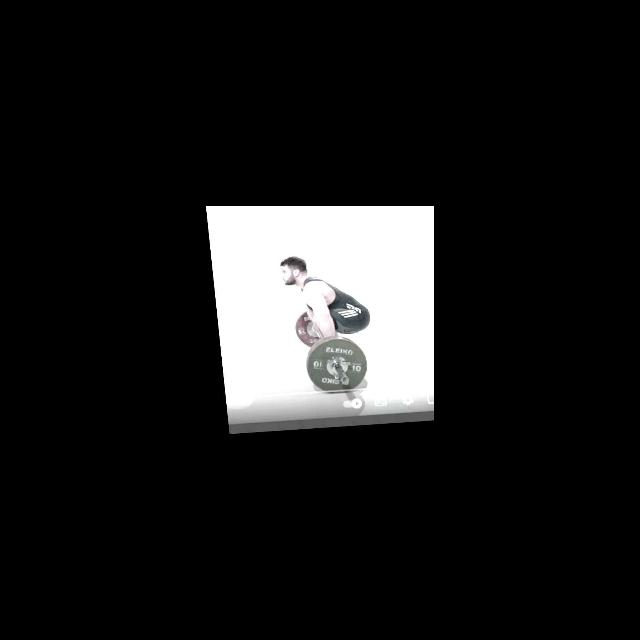barbell: (298, 336, 368, 397)
